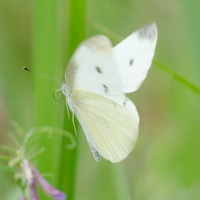insect: (62, 23, 156, 161)
